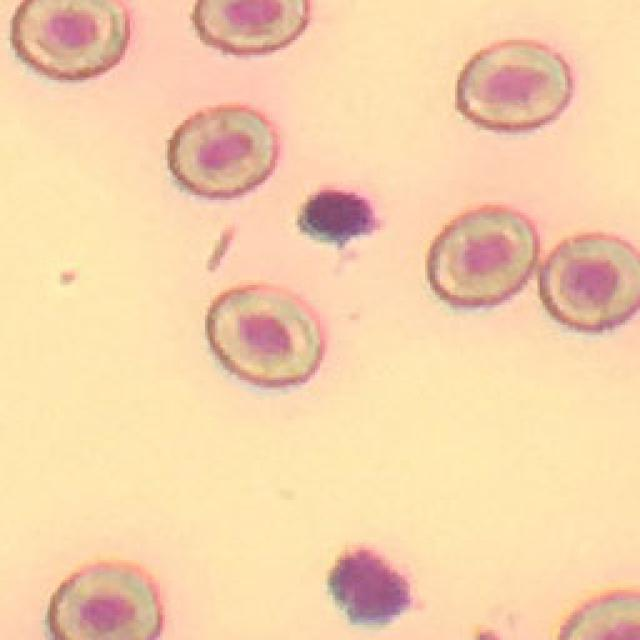RBC: (211, 286, 323, 383)
WBC: (301, 190, 375, 243)
